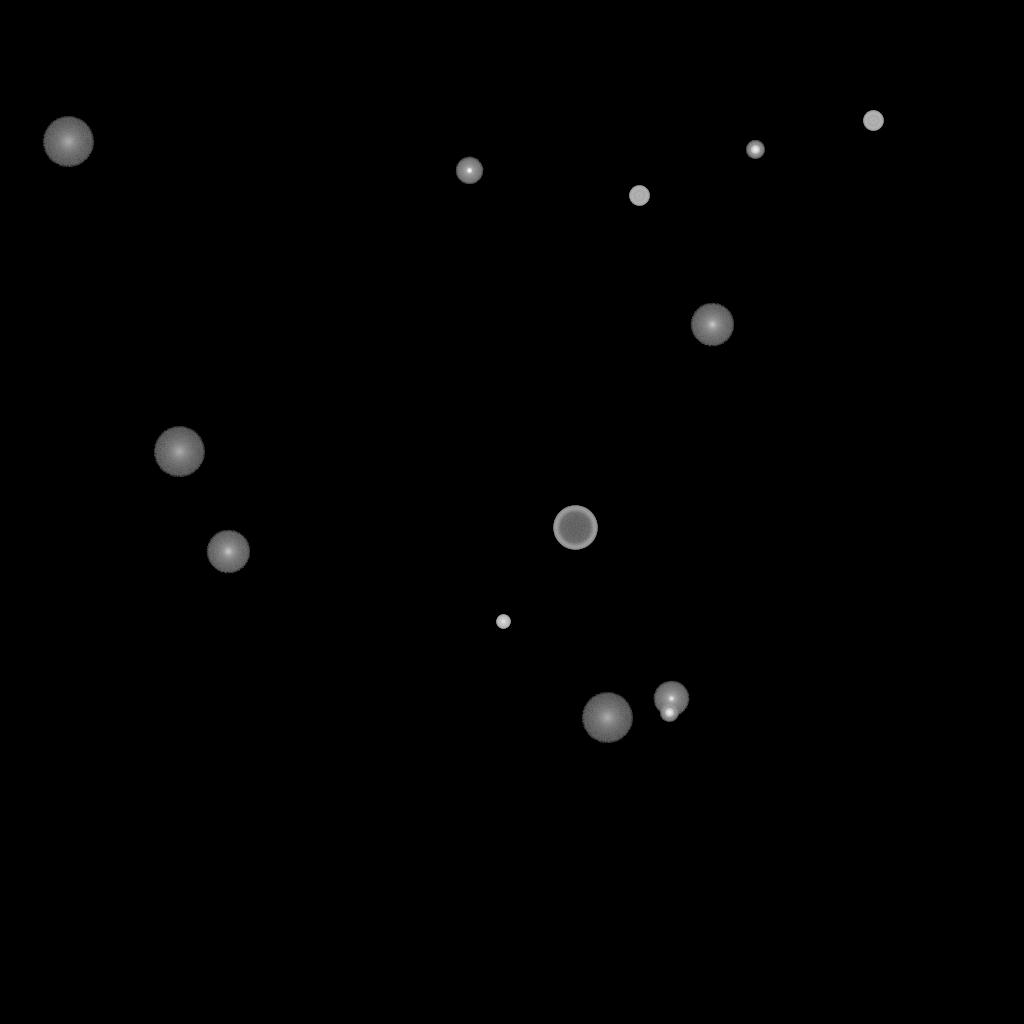depth:-10: (455, 157, 483, 185)
depth:-20: (660, 704, 678, 722), (746, 141, 764, 159)
depth:-30: (496, 615, 510, 629)
depth:-40: (629, 186, 649, 206), (863, 111, 883, 131)
depth:-70: (553, 506, 597, 550)
depth:0: (653, 681, 689, 717)
depth:10: (206, 530, 250, 574), (690, 303, 734, 347)
depth:20: (42, 117, 94, 167), (153, 427, 205, 477), (581, 693, 633, 743)
